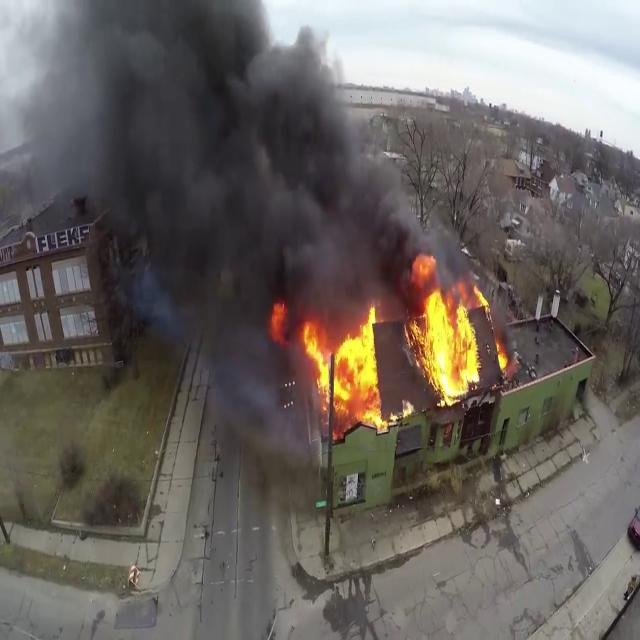Fire: (405, 263, 493, 406), (296, 306, 388, 427)
Smoke: (4, 0, 417, 340)
